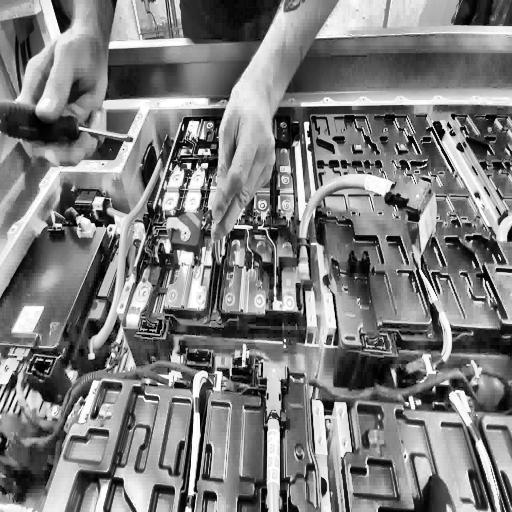high_volt_cable: (83, 128, 173, 362), (296, 166, 444, 279)
low_volt_cable: (13, 273, 510, 512)
nut: (48, 401, 60, 416)
